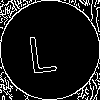L: (25, 25, 58, 74)
